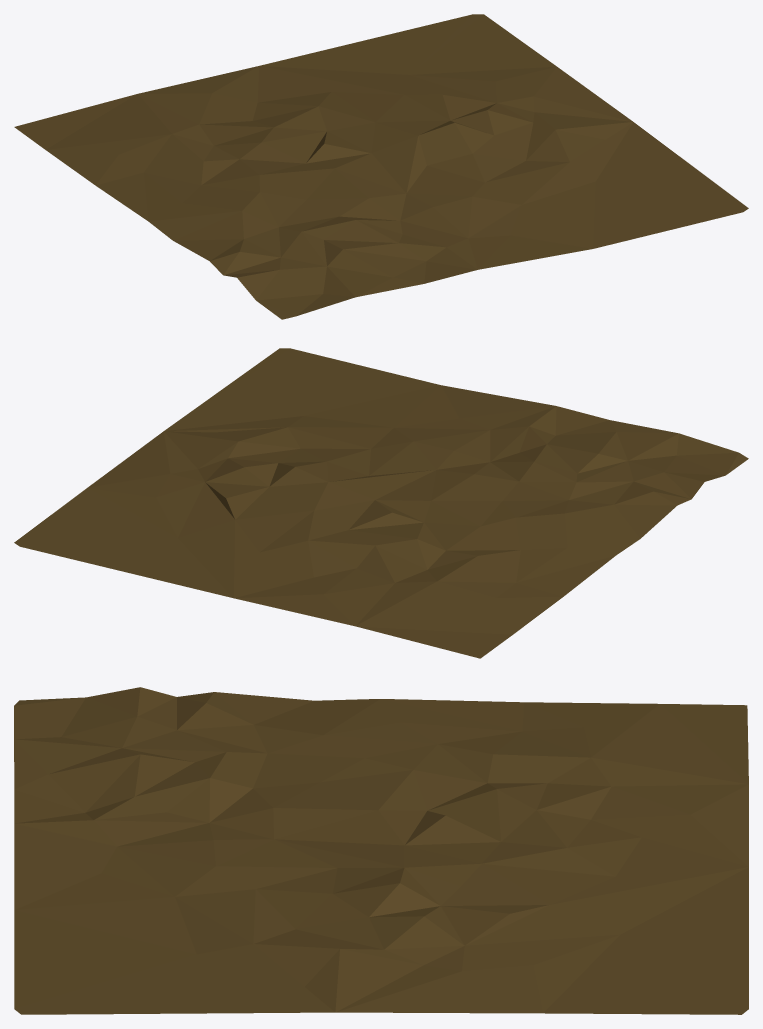
File: Planeland.01.fbx
3 renders of one model, top to bottom at view 1: azimuth 30°, elevation 25°; view 2: azimuth 150°, elevation 25°; view 3: azimuth 270°, elevation 25°, orthographic. The views are drawn at different scales.
Visible parts, largest first — view 1: Planeland.01; view 2: Planeland.01; view 3: Planeland.01.
Part boxes in pixels (left/top/right/bottom): Planeland.01: left=14, top=14, right=748, bottom=319; Planeland.01: left=14, top=348, right=748, bottom=658; Planeland.01: left=14, top=687, right=748, bottom=1014.
Size of the model in its own units: 24.05 by 24.02 by 1.06.
